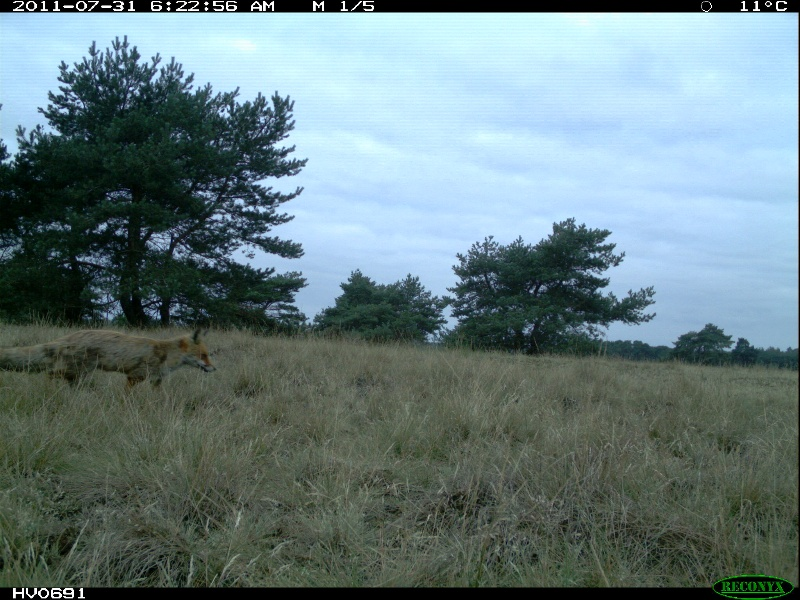fox: (1, 324, 217, 394)
